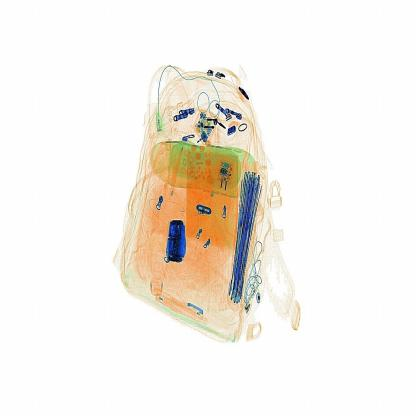scissors: (168, 219, 189, 268)
